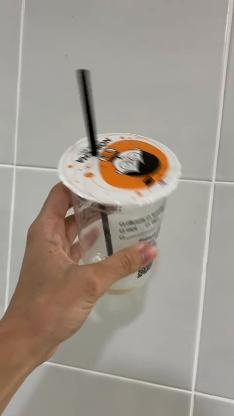Plastic Cup: (60, 133, 183, 295)
